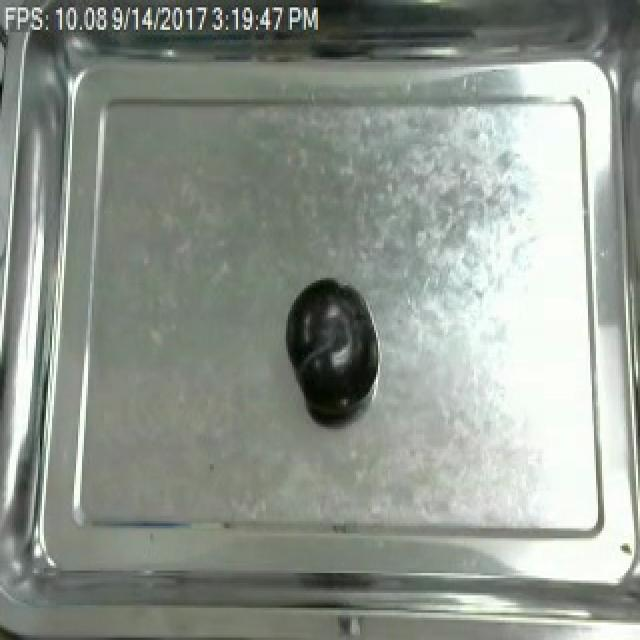Fruit: (280, 276, 374, 420)
